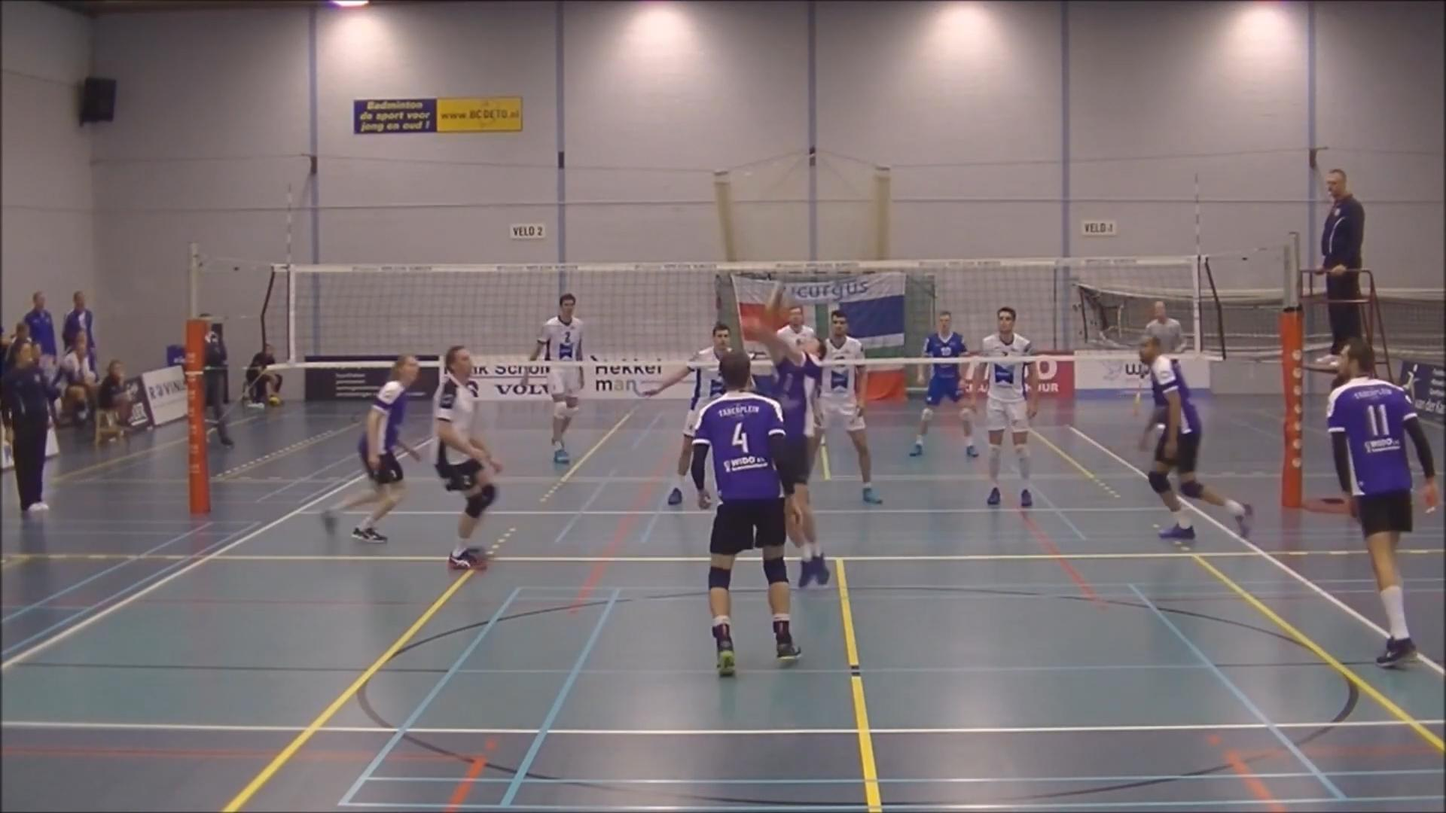Player: (1327, 338, 1438, 666), (691, 351, 799, 675), (1139, 336, 1252, 540), (322, 355, 419, 543), (642, 322, 731, 505), (434, 346, 501, 569), (969, 306, 1037, 507), (814, 310, 882, 504), (910, 311, 967, 456), (548, 366, 584, 464), (776, 305, 816, 349)
Set: (745, 305, 831, 594)
